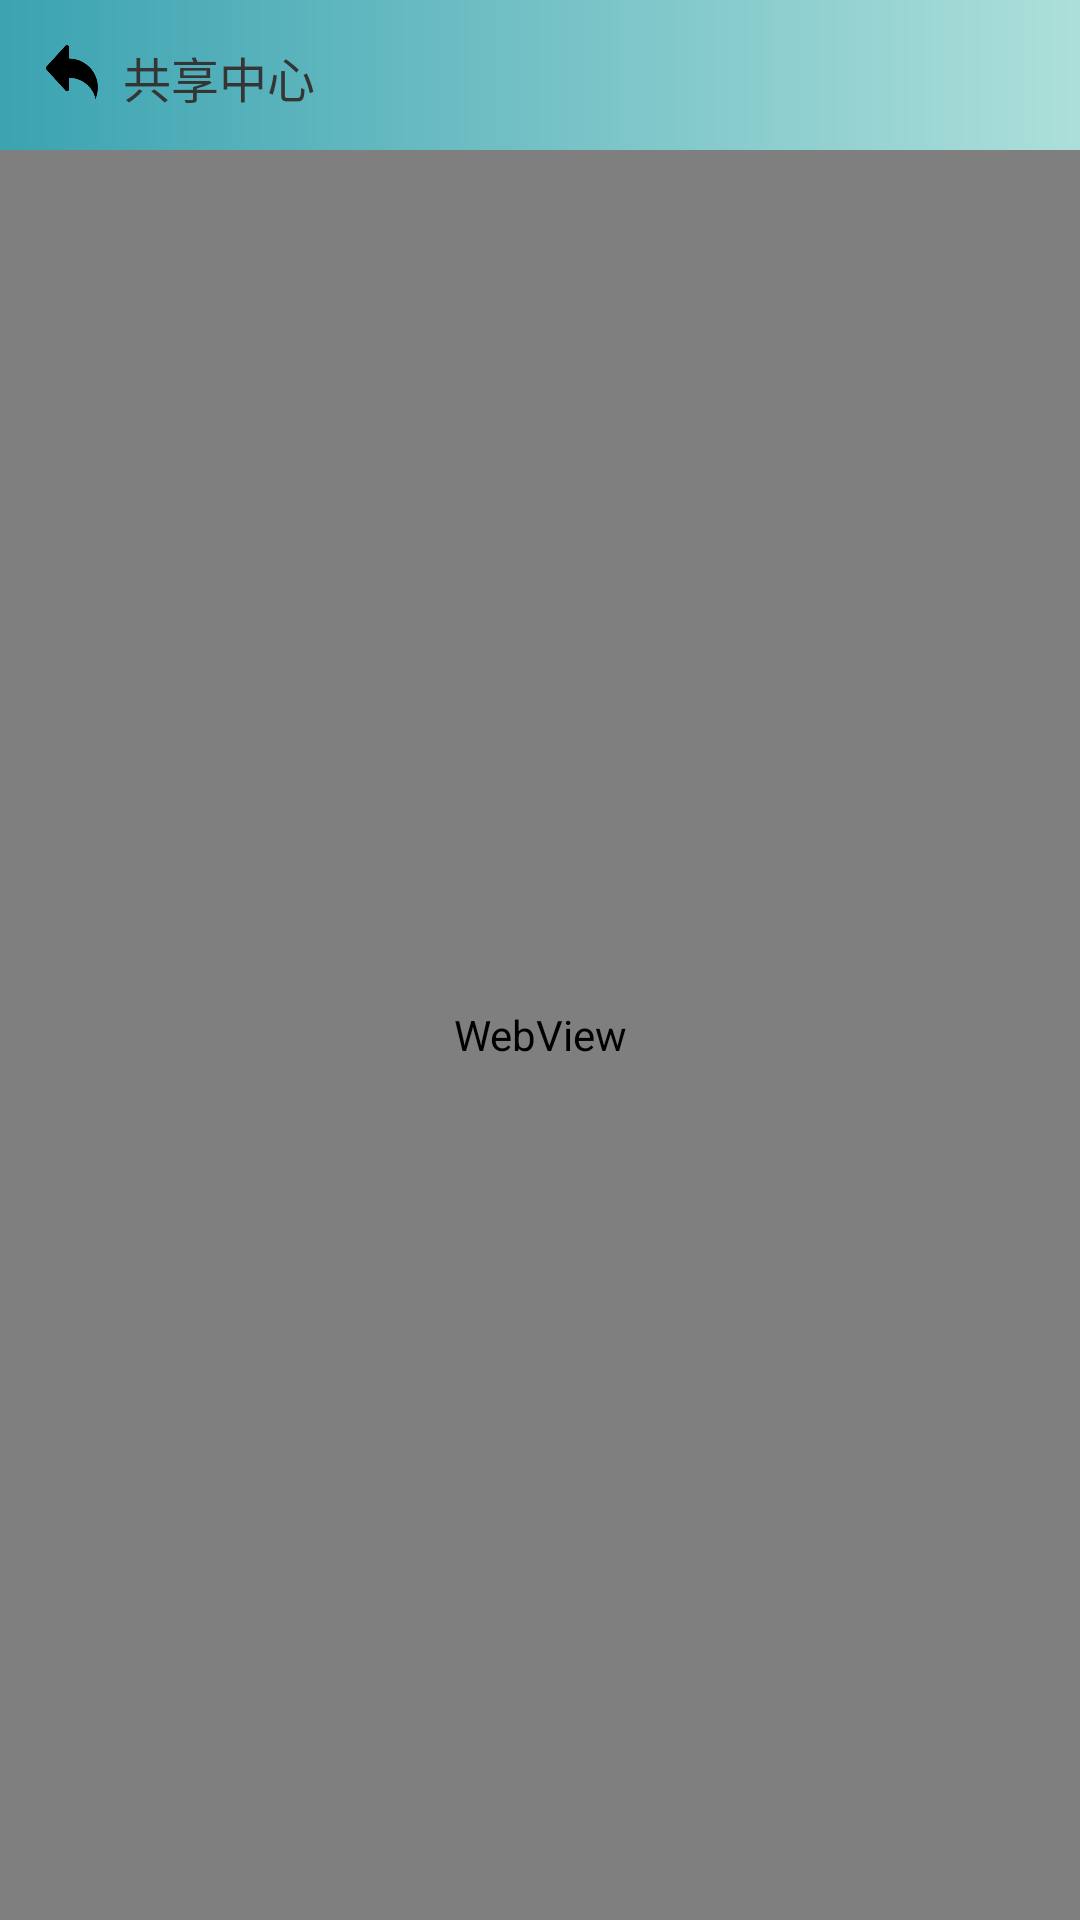

Named icons in this screenshot (1080px×1920px) and their centers, (x=x, y=y):
back: (x=72, y=72)
